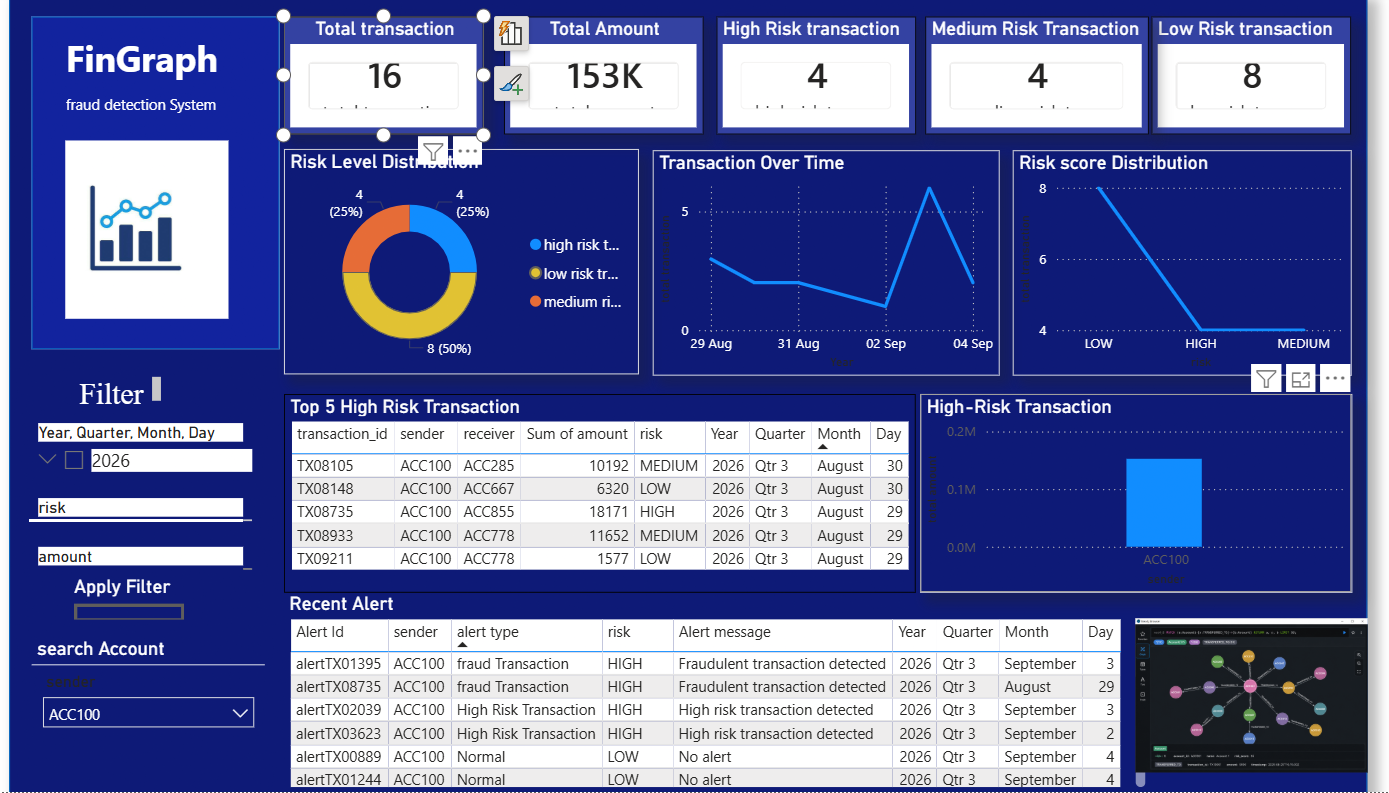

The page's visual inventory and layout, read from the dashboard file:
{"tool":"powerbi","page":{"name":"Page 2","canvas":[1280,720],"ordinal":1},"visuals":[{"type":"shape","box":[27.4,0,1224.9,721.4],"z":0},{"type":"cardVisual","title":"Total transaction","fields":{"Data":["transaction  data.total transaction"]},"box":[275.6,20.2,180.3,106.8],"z":1000},{"type":"cardVisual","title":"Total Amount","fields":{"Data":["transaction  data.total amount"]},"box":[473.2,20.2,180.3,106.8],"z":2000},{"type":"cardVisual","title":"High Risk transaction","fields":{"Data":["transaction  data.high risk transaction"]},"box":[665.1,20.2,180.3,106.8],"z":3000},{"type":"cardVisual","title":"Low Risk transaction","fields":{"Data":["transaction  data.low risk transaction"]},"box":[1057.5,20.2,180.3,106.8],"z":4000},{"type":"cardVisual","title":"Medium Risk Transaction","fields":{"Data":["transaction  data.medium risk transaction"]},"box":[852.7,20.2,202,106.8],"z":5000},{"type":"donutChart","title":"Risk Level Distribution","fields":{"Y":["transaction  data.high risk transaction","transaction  data.low risk transaction","transaction  data.medium risk transaction"]},"box":[275.6,139.9,320.3,203.4],"z":6000},{"type":"lineChart","title":"Transaction Over Time","fields":{"Y":["transaction  data.total transaction"],"Category":["transaction  data.timestamp.Variation.Date Hierarchy.Year","transaction  data.timestamp.Variation.Date Hierarchy.Quarter","transaction  data.timestamp.Variation.Date Hierarchy.Month","transaction  data.timestamp.Variation.Date Hierarchy.Day"]},"box":[607.4,141.4,313.1,203.4],"z":7000},{"type":"lineChart","title":"Risk score Distribution","fields":{"Category":["transaction  data.risk"],"Y":["transaction  data.total transaction"]},"box":[932,141.4,305.9,203.4],"z":8000},{"type":"columnChart","title":"High-Risk Transaction","fields":{"Category":["transaction  data.sender"],"Y":["transaction  data.total amount"]},"box":[848.3,360.7,389.5,178.9],"z":9000},{"type":"slicer","title":"search Account","fields":{"Values":["transaction  data.sender"]},"box":[47.6,580,210.6,101],"z":10000},{"type":"tableEx","title":"Top 5 High  Risk Transaction","fields":{"Values":["transaction  data.transaction_id","transaction  data.sender","transaction  data.receiver","Sum(transaction  data.amount)","transaction  data.risk","transaction  data.timestamp.Variation.Date Hierarchy.Year","transaction  data.timestamp.Variation.Date Hierarchy.Quarter","transaction  data.timestamp.Variation.Date Hierarchy.Month","transaction  data.timestamp.Variation.Date Hierarchy.Day"]},"box":[275.6,360.7,569.9,178.9],"z":11000},{"type":"tableEx","title":"Recent Alert","fields":{"Values":["transaction  data.Alert Id","transaction  data.sender","transaction  data.alert type","transaction  data.risk","transaction  data.Alert message","transaction  data.timestamp.Variation.Date Hierarchy.Year","transaction  data.timestamp.Variation.Date Hierarchy.Quarter","transaction  data.timestamp.Variation.Date Hierarchy.Month","transaction  data.timestamp.Variation.Date Hierarchy.Day"]},"box":[275.6,539.6,782,180.3],"z":12000},{"type":"shape","box":[47.6,20.2,223.6,300.1],"z":13000},{"type":"textbox","box":[85.1,340.5,83.7,41.8],"z":14000},{"type":"slicer","fields":{"Values":["transaction  data.timestamp.Variation.Date Hierarchy.Year","transaction  data.timestamp.Variation.Date Hierarchy.Quarter","transaction  data.timestamp.Variation.Date Hierarchy.Month","transaction  data.timestamp.Variation.Date Hierarchy.Day"]},"box":[40.4,382.3,210.6,70.7],"z":15000},{"type":"slicer","fields":{"Values":["transaction  data.risk"]},"box":[40.4,450.1,210.6,30.3],"z":16000},{"type":"slicer","fields":{"Values":["transaction  data.amount"]},"box":[40.4,493.4,210.6,30.3],"z":17000},{"type":"actionButton","title":"Apply Filter","box":[85.1,523.7,99.6,40.4],"z":18000},{"type":"textbox","box":[73.6,31.7,155.8,53.4],"z":19000},{"type":"textbox","box":[73.6,85.1,165.9,67.8],"z":20000},{"type":"image","box":[77.9,85.1,147.2,253.9],"z":21000},{"type":"image","box":[1043.1,543.9,209.2,176],"z":22000}]}

Visuals, with their boxes in screenshot pixels (x1, y1, x2, y2):
shape: rect(9, 14, 1368, 792)
"Total transaction" cardVisual: rect(284, 37, 484, 155)
"Total Amount" cardVisual: rect(503, 37, 703, 155)
"High Risk transaction" cardVisual: rect(716, 37, 916, 155)
"Low Risk transaction" cardVisual: rect(1152, 37, 1352, 155)
"Medium Risk Transaction" cardVisual: rect(924, 37, 1148, 155)
"Risk Level Distribution" donutChart: rect(284, 170, 639, 395)
"Transaction Over Time" lineChart: rect(652, 171, 1000, 397)
"Risk score Distribution" lineChart: rect(1012, 171, 1352, 397)
"High-Risk Transaction" columnChart: rect(919, 415, 1352, 613)
"search Account" slicer: rect(31, 658, 265, 770)
"Top 5 High  Risk Transaction" tableEx: rect(284, 415, 916, 613)
"Recent Alert" tableEx: rect(284, 613, 1152, 792)
shape: rect(31, 37, 279, 370)
textbox: rect(73, 392, 166, 439)
slicer - transaction  data.timestamp.Variation.Date Hierarchy.Year x transaction  data.timestamp.Variation.Date Hierarchy.Quarter: rect(23, 439, 257, 517)
slicer - transaction  data.risk: rect(23, 514, 257, 547)
slicer - transaction  data.amount: rect(23, 562, 257, 596)
"Apply Filter" actionButton: rect(73, 596, 183, 640)
textbox: rect(60, 50, 233, 109)
textbox: rect(60, 109, 244, 184)
image: rect(65, 109, 228, 391)
image: rect(1136, 618, 1368, 792)
